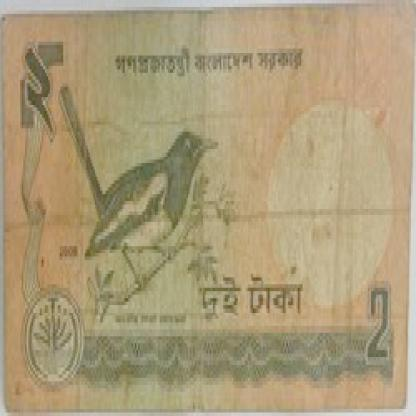two taka: (348, 270, 398, 385), (18, 38, 62, 139)
